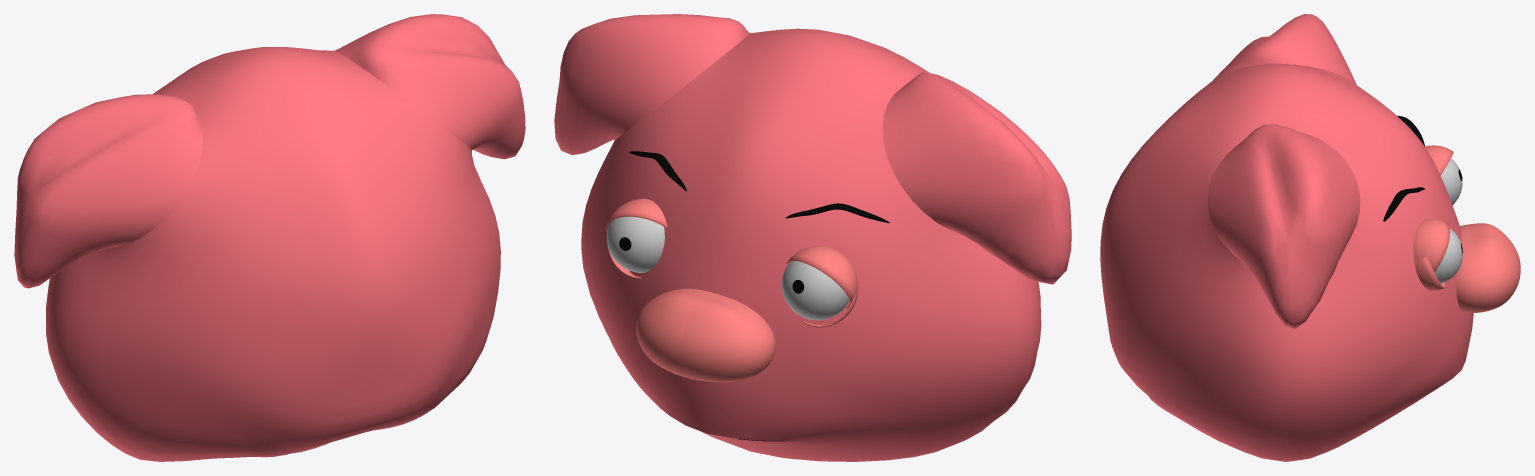
File: [1]original.obj
3 renders of one model, left to right at view 1: azimuth 30°, elevation 25°; view 2: azimuth 150°, elevation 25°; view 3: azimuth 270°, elevation 25°, orthographic. The views are drawn at different scales.
Parts seen in each view (by area): view 1: Head_Roundcube; view 2: Head_Roundcube, Head.002_Roundcube.002, Eyeball.001_Sphere.005, Eyeball_Sphere, Eyelid_Bottom_Left.003_Sphere.011, Head.001_Roundcube.001, Eyelid_Bottom_Left.002_Sphere.009; view 3: Head_Roundcube, Head.002_Roundcube.002, Eyelid_Bottom_Left.002_Sphere.009, Eyeball_Sphere, Eyeball.001_Sphere.005, Eyelid_Bottom_Left_Sphere.003, Head.001_Roundcube.001, Eyelid_Bottom_Left.003_Sphere.011.
Part boxes in pixels (left/top/right/bottom): Head_Roundcube: left=14, top=14, right=525, bottom=461; Head_Roundcube: left=554, top=14, right=1071, bottom=461; Head.002_Roundcube.002: left=636, top=288, right=775, bottom=382; Eyeball.001_Sphere.005: left=782, top=261, right=849, bottom=320; Eyeball_Sphere: left=606, top=216, right=664, bottom=272; Eyelid_Bottom_Left.003_Sphere.011: left=786, top=246, right=857, bottom=308; Head.001_Roundcube.001: left=629, top=151, right=889, bottom=223; Eyelid_Bottom_Left.002_Sphere.009: left=606, top=198, right=667, bottom=232; Head_Roundcube: left=1100, top=14, right=1473, bottom=461; Head.002_Roundcube.002: left=1456, top=223, right=1520, bottom=312; Eyelid_Bottom_Left.002_Sphere.009: left=1413, top=219, right=1450, bottom=272; Eyeball_Sphere: left=1434, top=228, right=1462, bottom=283; Eyeball.001_Sphere.005: left=1441, top=158, right=1462, bottom=205; Eyelid_Bottom_Left_Sphere.003: left=1413, top=256, right=1445, bottom=290; Head.001_Roundcube.001: left=1383, top=115, right=1424, bottom=221; Eyelid_Bottom_Left.003_Sphere.011: left=1425, top=145, right=1453, bottom=175.
Bounding box in the file's own units: 3.92 × 2.85 × 3.16.
